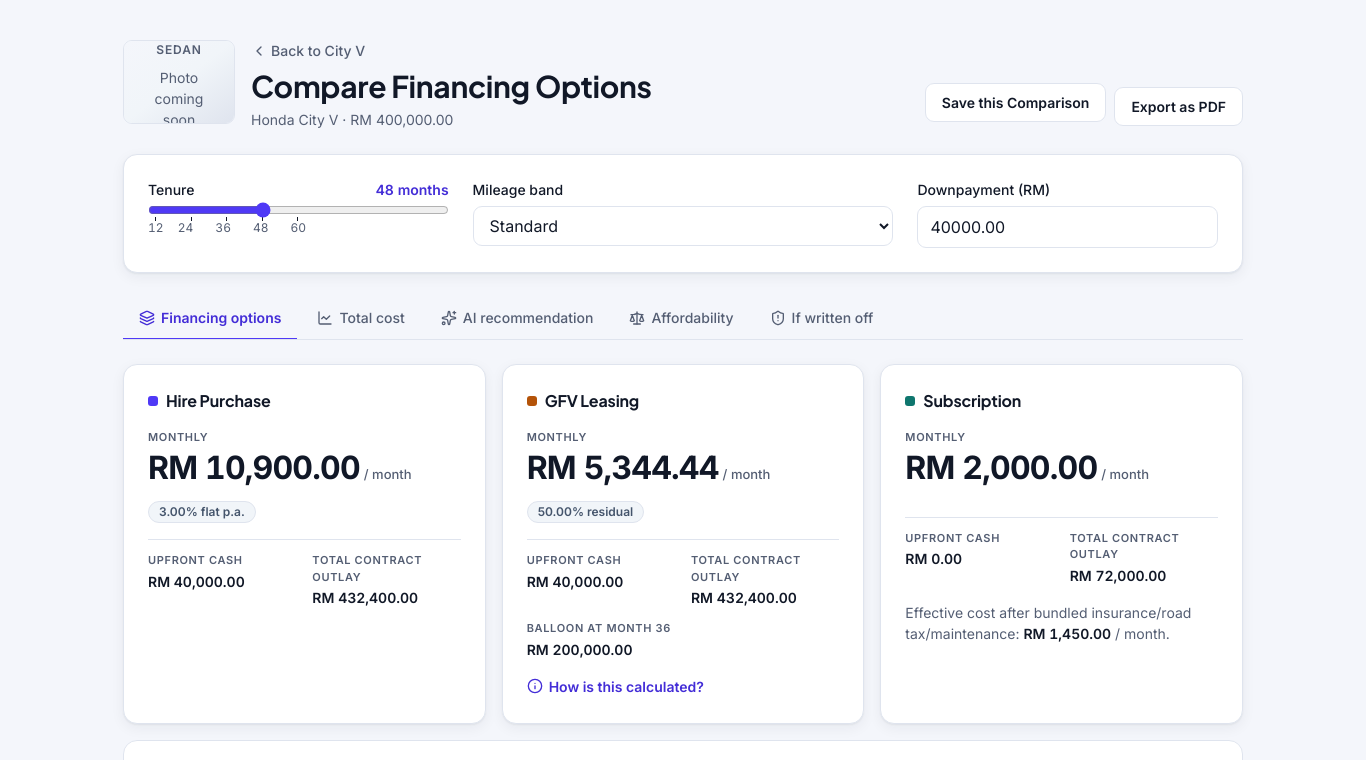
Test: ComparisonPage › Export as PDF › captures the live TCO chart's SVG markup when exporting from the TCO tab
Expected: the text "RM 10,900.00" is shown, [148,448,360,486]
Click the tab "Total cost" at x=361, y=318, box [301,297,421,340]
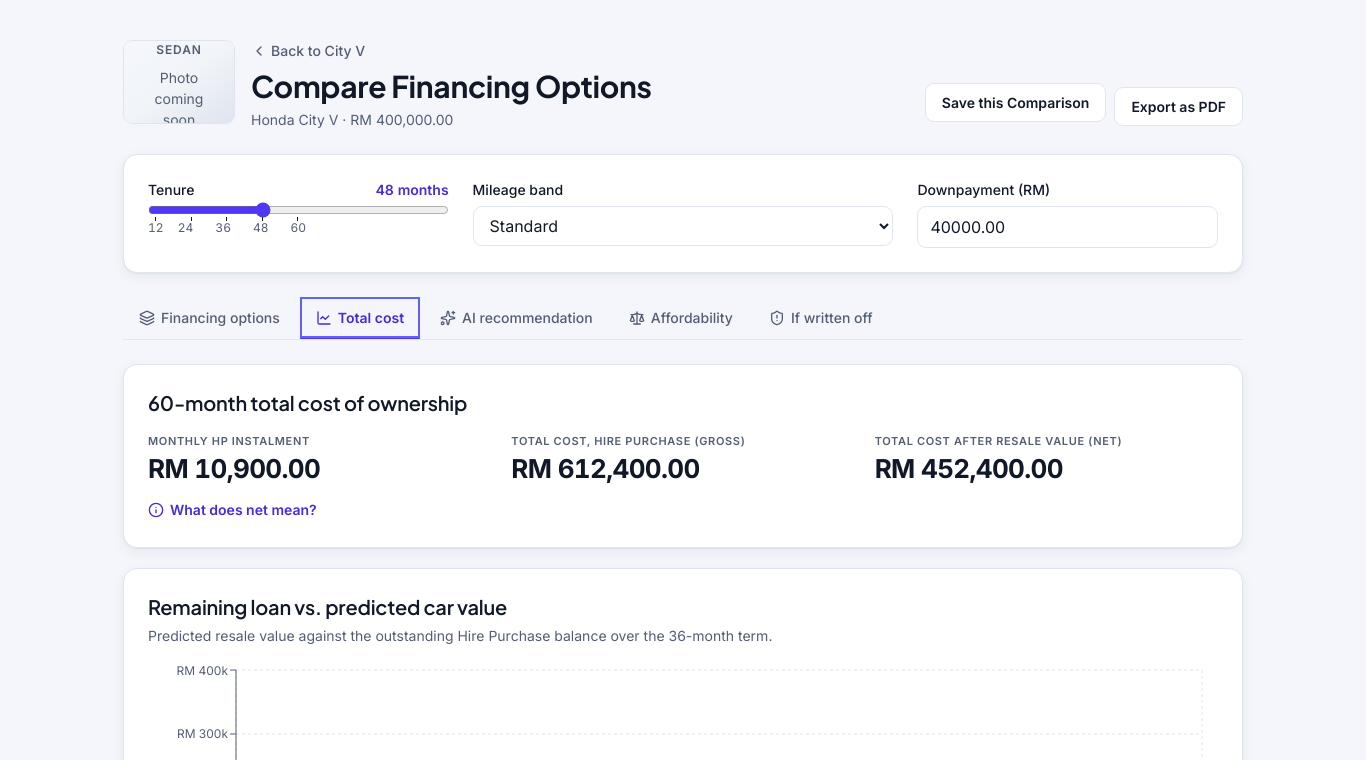
Now the heading "Remaining loan vs. predicted car value" is shown, box [148,594,507,619]
Click the button "Export as PDF" at x=1179, y=106, box [1114,87,1243,126]
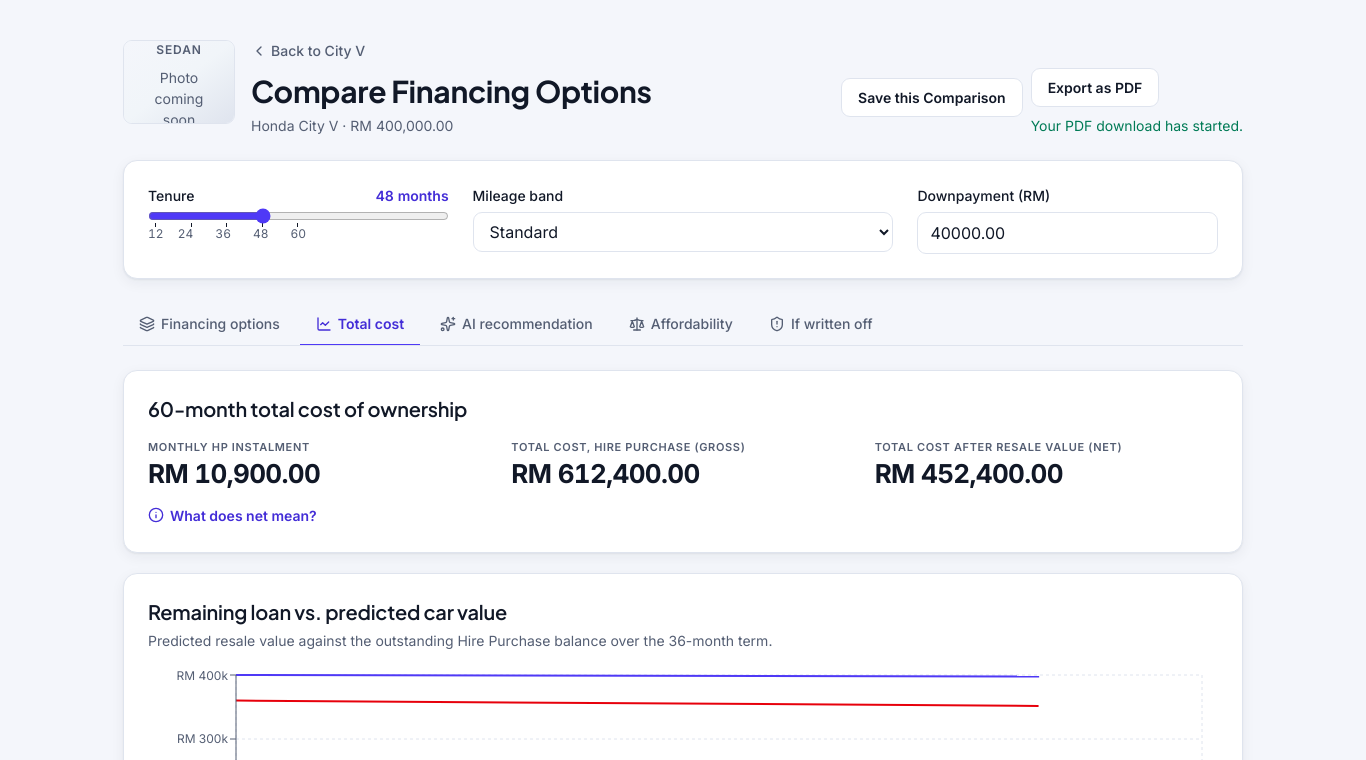
Now the text "Your PDF download has started." is shown, box [1031,114,1243,136]
